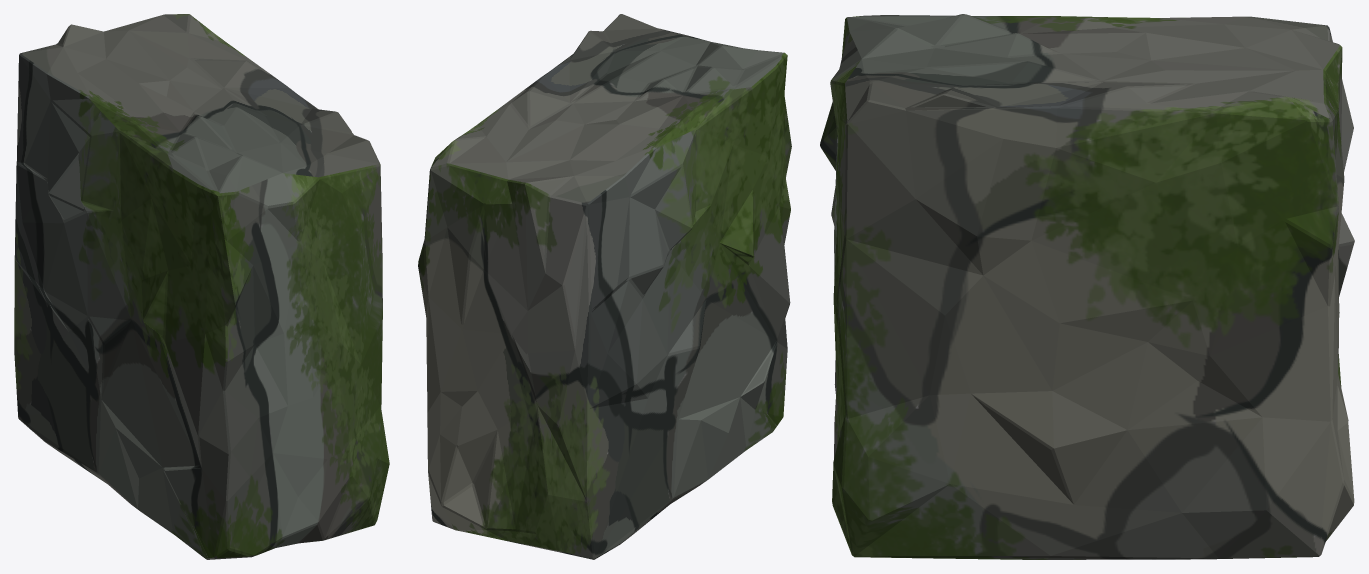
The model's file is Mod_RockPushable.fbx.
3 views of the same model, side by side, from view 1: azimuth 30°, elevation 25°; view 2: azimuth 150°, elevation 25°; view 3: azimuth 270°, elevation 25° (orthographic). The views are drawn at different scales.
Parts seen in each view (by area): view 1: Cube; view 2: Cube; view 3: Cube.
Part boxes in pixels (x1=…): Cube: x1=14, y1=14, x2=389, y2=559; Cube: x1=418, y1=14, x2=791, y2=559; Cube: x1=820, y1=14, x2=1354, y2=559.
Bounding box in the file's own units: 1.01 × 1.93 × 1.95.
